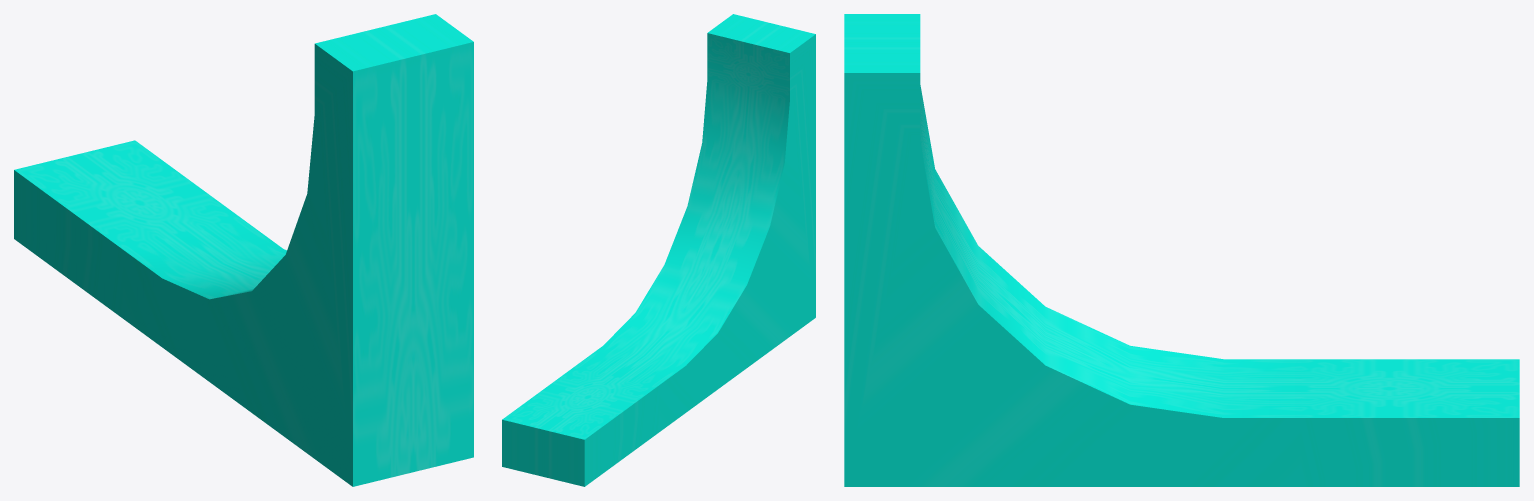
The model's file is 0_ground2.fbx.
The picture shows the model from 3 angles, left to right: view 1: azimuth 30°, elevation 25°; view 2: azimuth 150°, elevation 25°; view 3: azimuth 270°, elevation 25°; orthographic projection. The views are drawn at different scales.
Parts seen in each view (by area): view 1: mqo_mesh; view 2: mqo_mesh; view 3: mqo_mesh.
Boxes of the visible parts, bbox=[...] form: mqo_mesh: bbox=[14, 14, 473, 486]; mqo_mesh: bbox=[502, 14, 815, 486]; mqo_mesh: bbox=[844, 14, 1519, 486].
Size of the model in its own units: 30.06 by 98.55 by 146.
